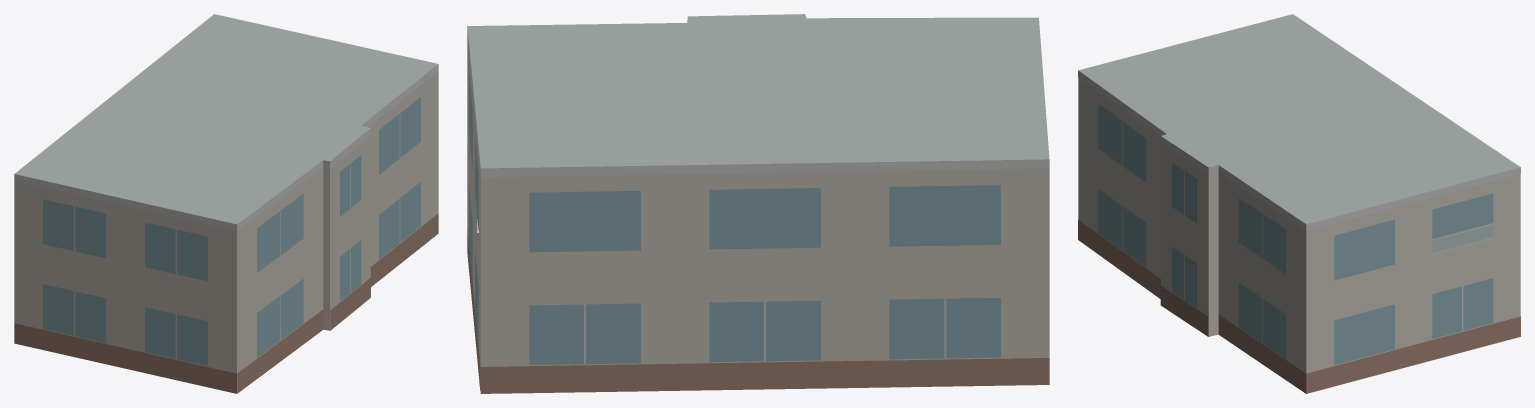
The model's file is survey-upis-32623866.glb.
3 views of the same model, side by side, from view 1: azimuth 30°, elevation 25°; view 2: azimuth 150°, elevation 25°; view 3: azimuth 270°, elevation 25° (orthographic). The views are drawn at different scales.
Visible parts, largest first — view 1: survey-upis-32623866.tmp; view 2: survey-upis-32623866.tmp; view 3: survey-upis-32623866.tmp.
Part boxes in pixels (x1,y1,x2,y2): survey-upis-32623866.tmp: (14, 14, 438, 393); survey-upis-32623866.tmp: (467, 14, 1049, 393); survey-upis-32623866.tmp: (1078, 14, 1520, 393).
Size of the model in its own units: 16.24 by 6.1 by 14.44.
